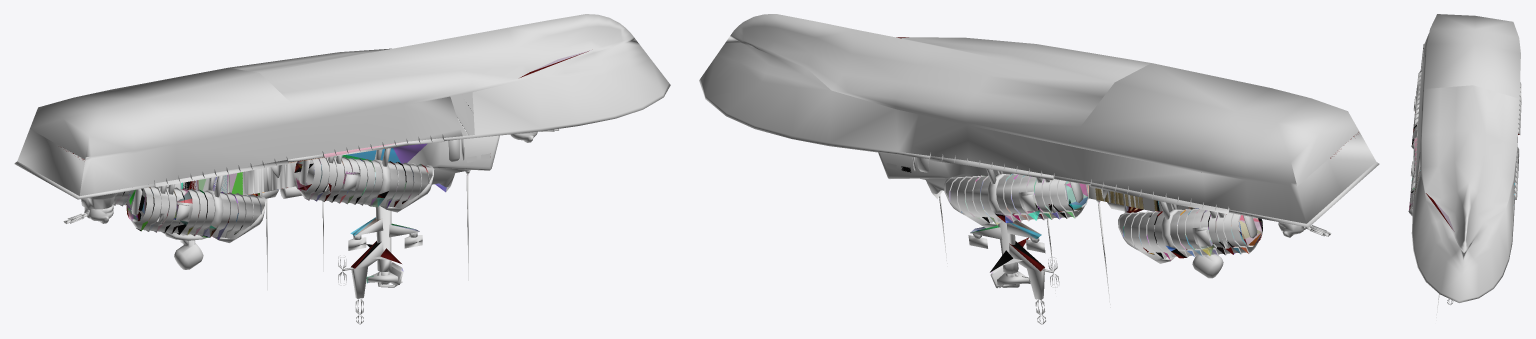
3 renders of one model, left to right at view 1: azimuth 30°, elevation 25°; view 2: azimuth 150°, elevation 25°; view 3: azimuth 270°, elevation 25°, orthographic. The views are drawn at different scales.
Size of the model in its own units: 1.73 by 0.7063 by 0.3775.
